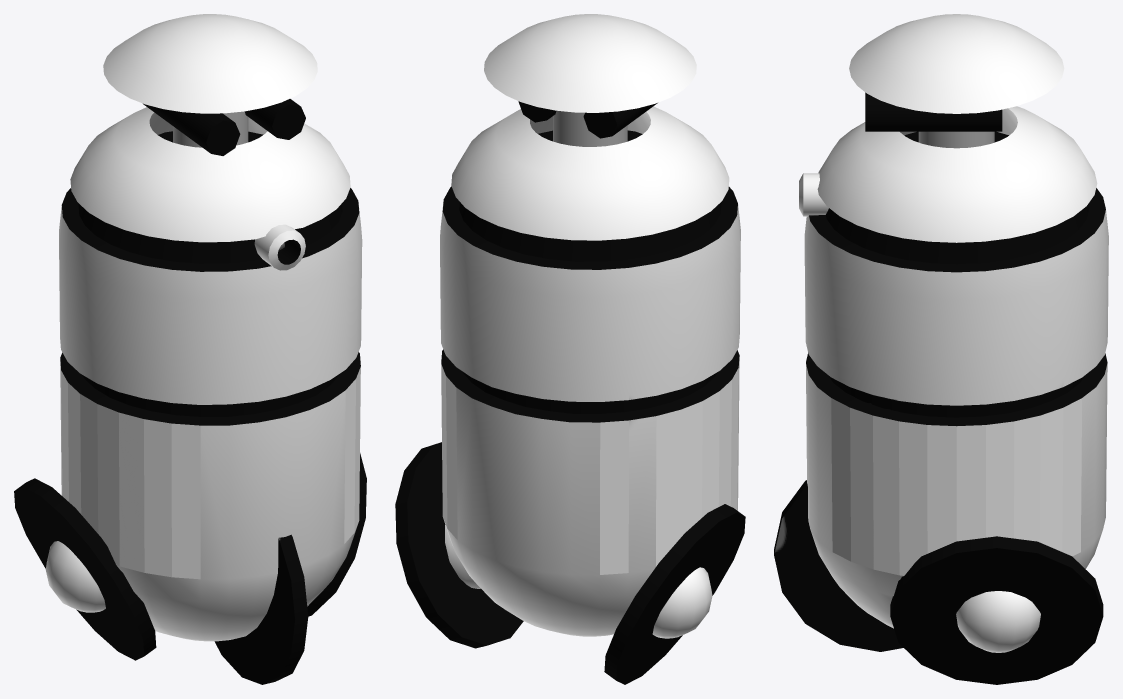
The model's file is Bot7.fbx.
3 views of the same model, side by side, from view 1: azimuth 30°, elevation 25°; view 2: azimuth 150°, elevation 25°; view 3: azimuth 270°, elevation 25° (orthographic).
Visible parts, largest first — view 1: 円柱; view 2: 円柱; view 3: 円柱.
Part boxes in pixels (x1,y1,x2,y2): 円柱: [14, 14, 366, 684]; 円柱: [395, 14, 745, 684]; 円柱: [774, 14, 1108, 684].
Bounding box in the file's own units: 228 × 451 × 220.
Materials: 2 (2 with a texture image).
